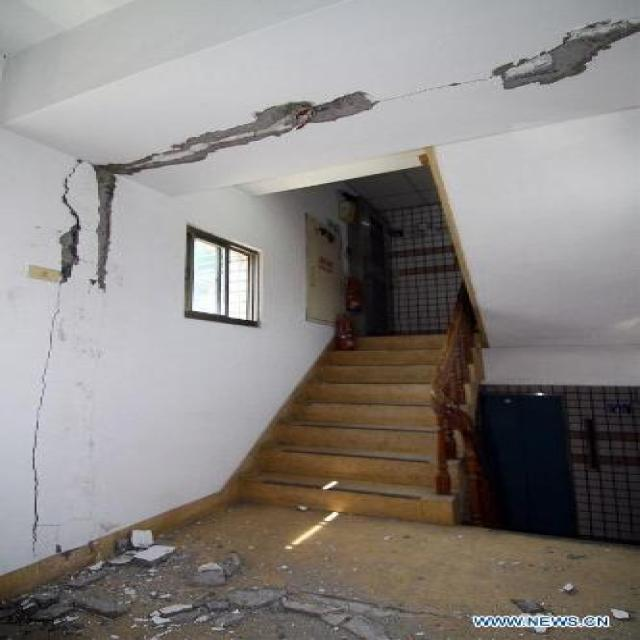crack: (88, 91, 375, 290), (487, 18, 638, 88), (51, 194, 85, 288)
